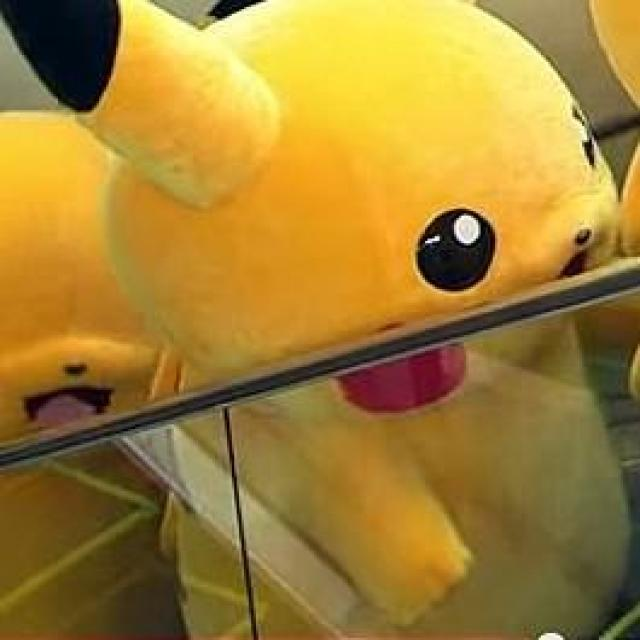pikachu: (6, 0, 618, 640)
